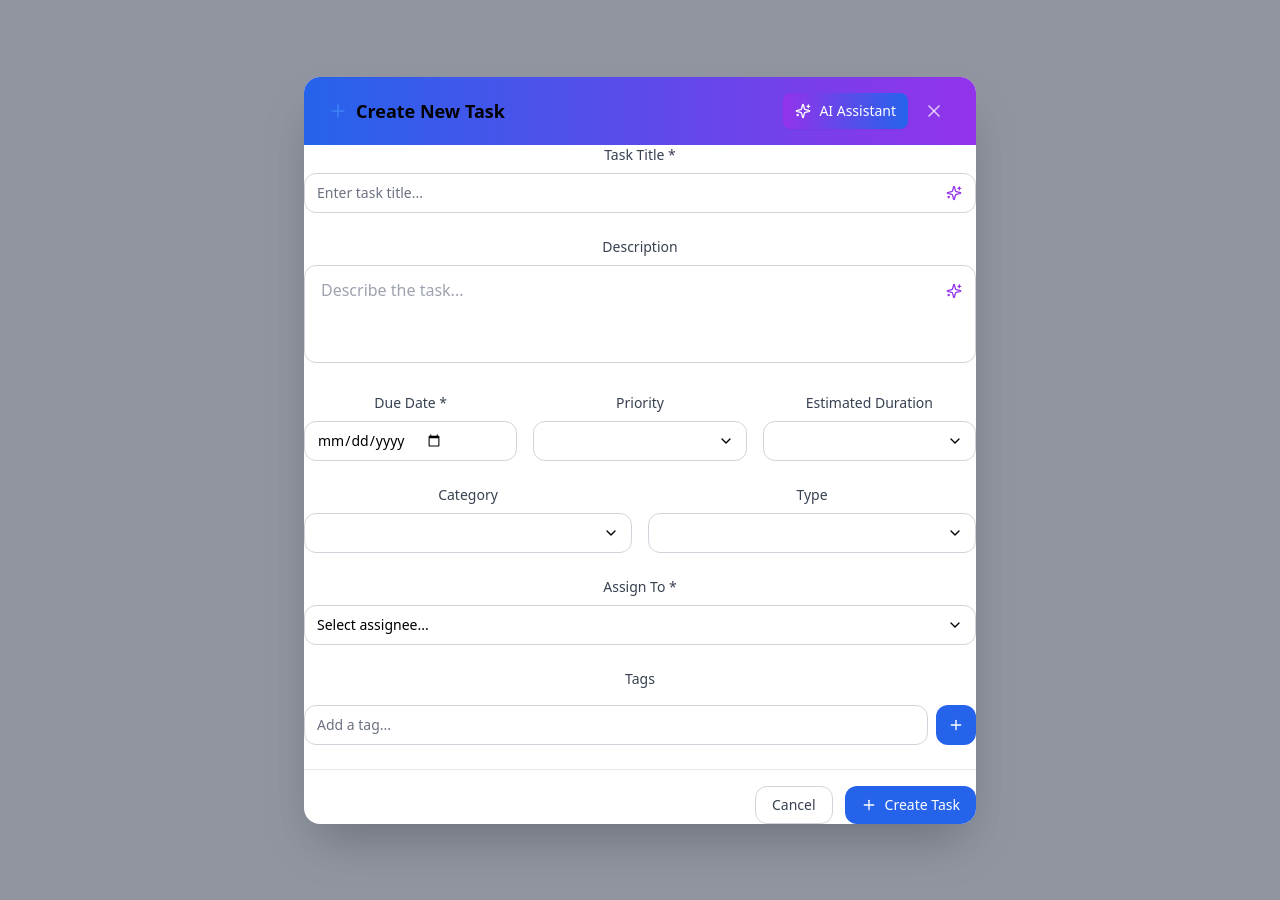
Test case: AddTaskModal AI writing is real › asks the real suggestion function (seeded with what is typed) and fills the field with its answer
Type "Follow up with Ada" into the field with placeholder "Enter task title..." at [640, 192], box [304,172,976,212]
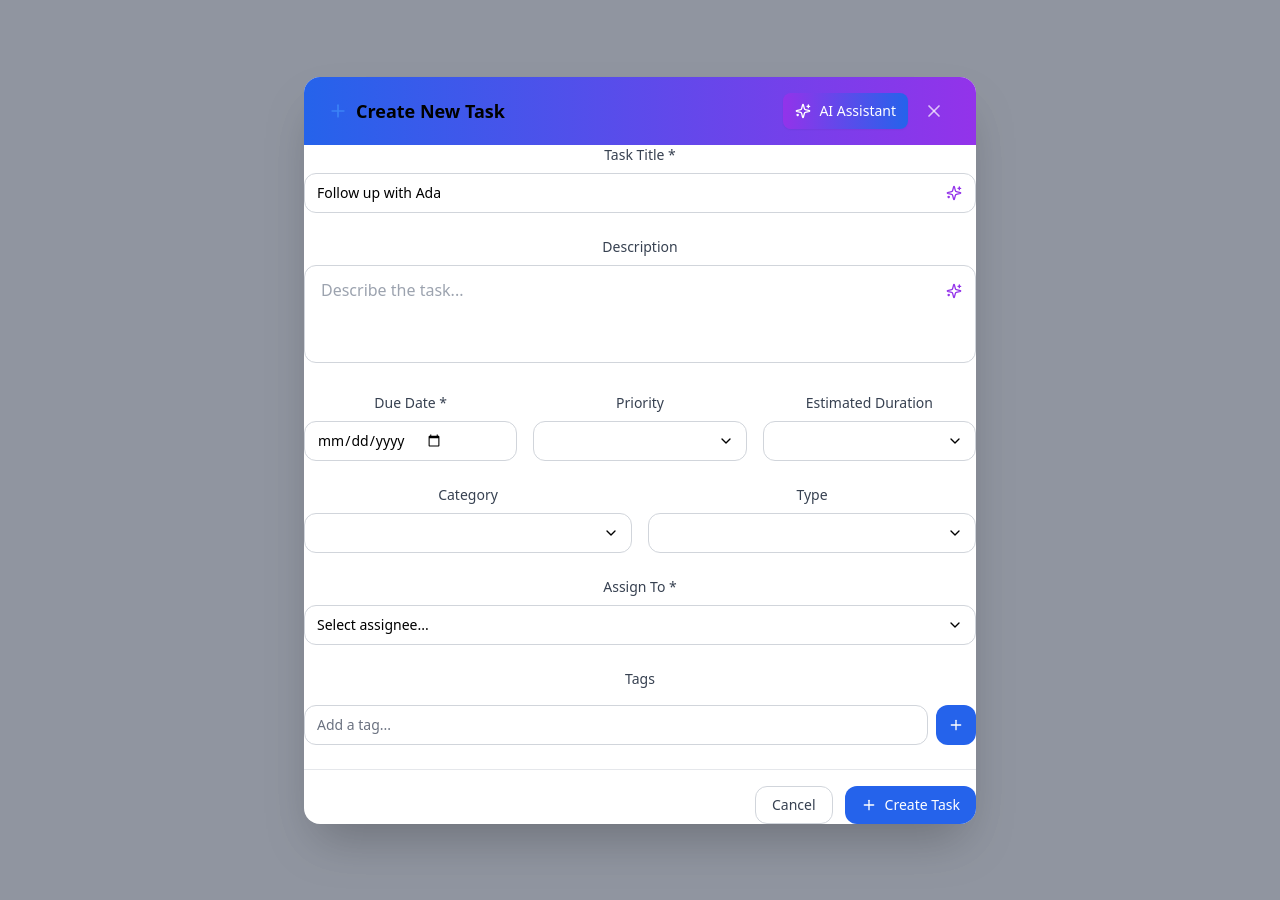
Click the button titled "AI writing assistant for task title" at [954, 192], box [940,178,968,206]
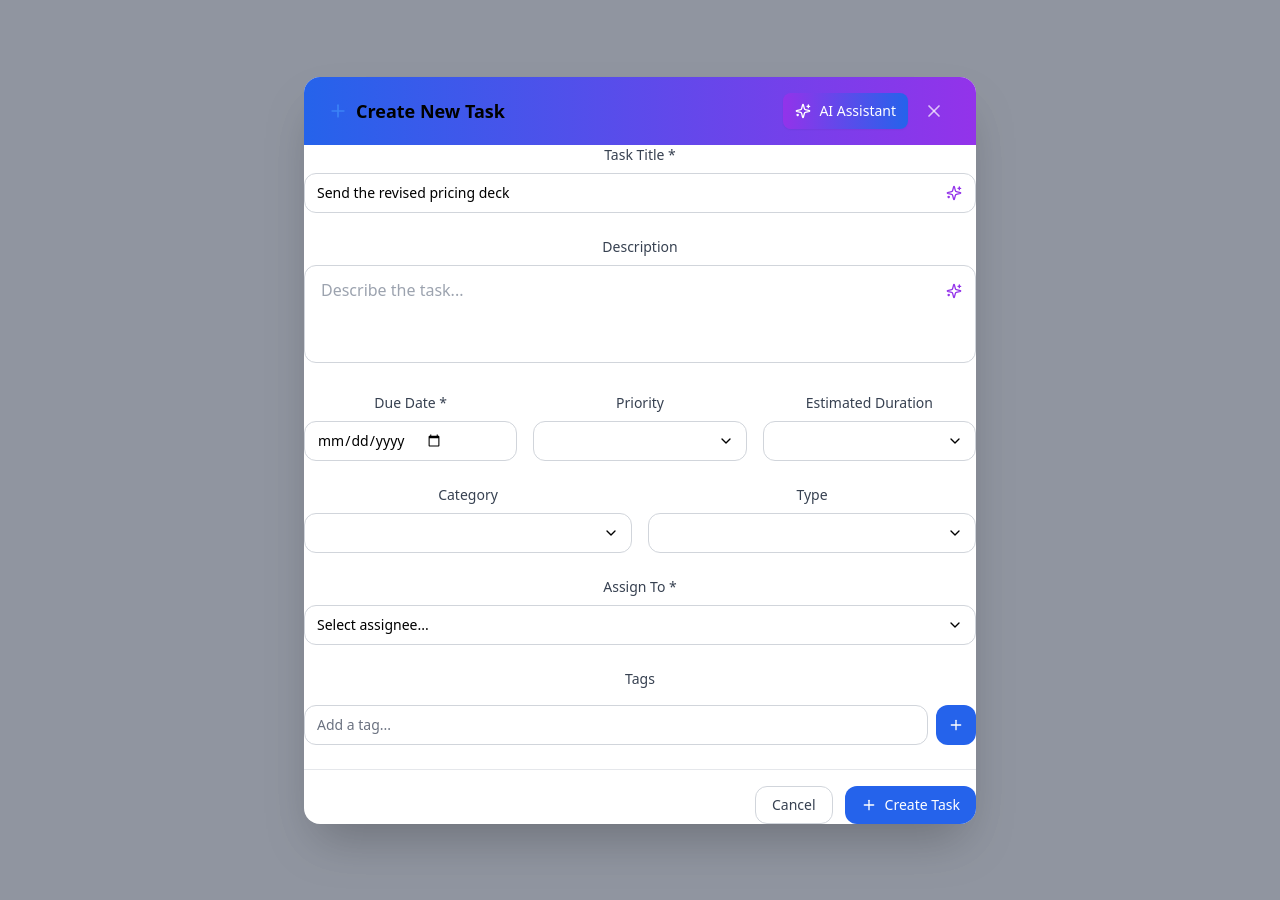
Expected: the field showing "Send the revised pricing deck" is shown, [304,172,976,212]
